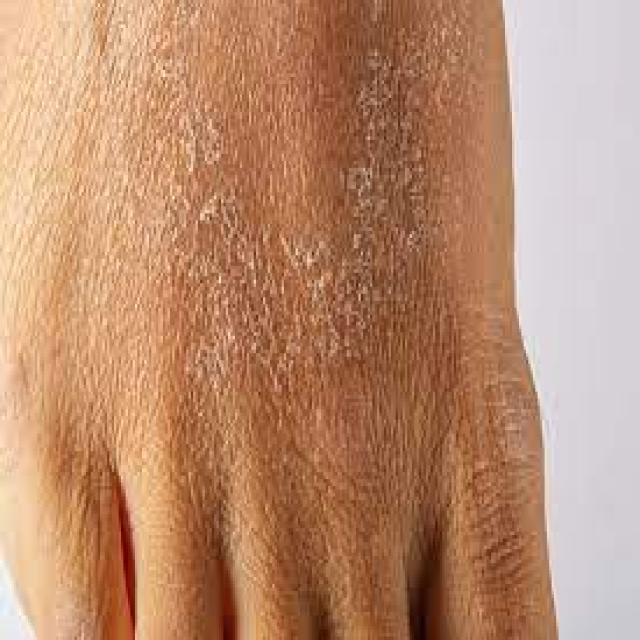Dry-Skin: (179, 305, 247, 561), (164, 130, 268, 251), (274, 370, 357, 480), (360, 168, 420, 288), (352, 58, 478, 98), (64, 192, 124, 272), (259, 47, 324, 110), (124, 22, 187, 72), (46, 376, 86, 452), (461, 330, 489, 378)
